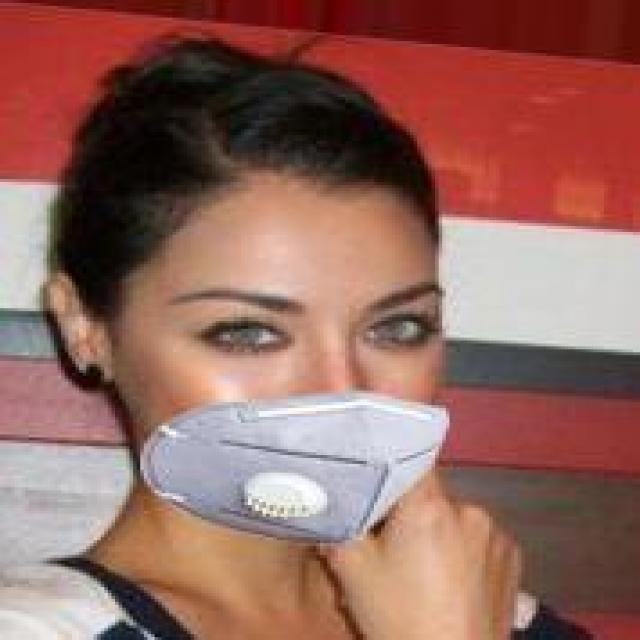mask: (65, 103, 507, 546)
